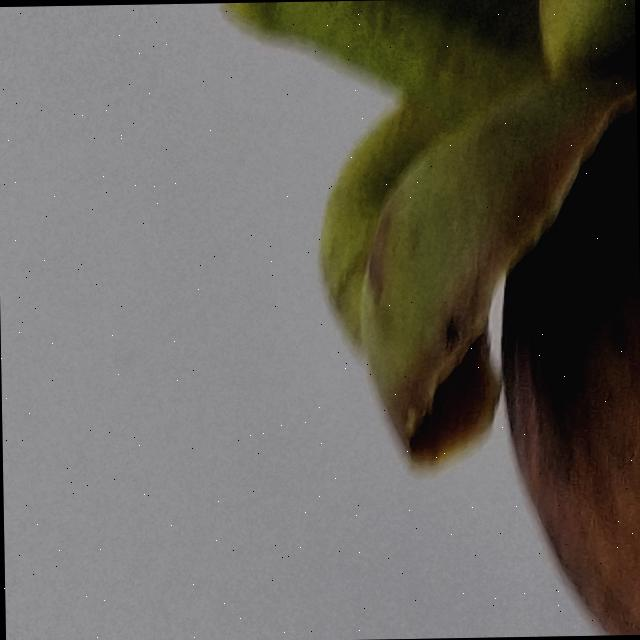mangosteen: (149, 0, 640, 640)
